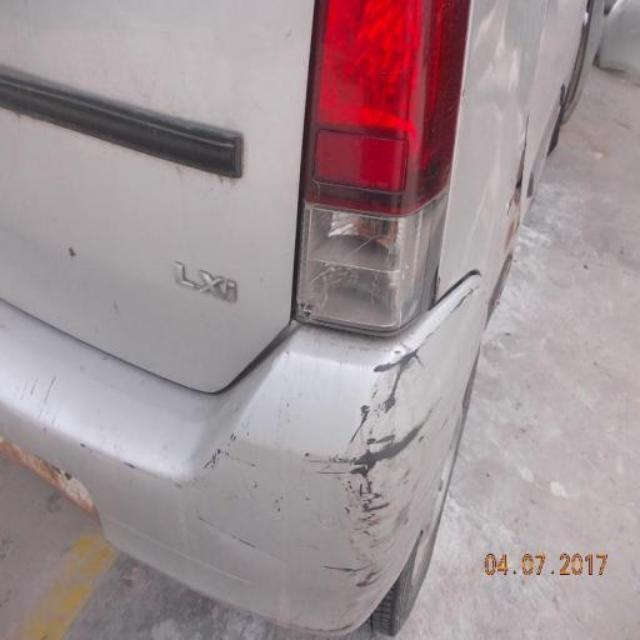crack: (301, 276, 487, 601)
dent: (503, 109, 534, 264)
scratch: (74, 433, 269, 493)
